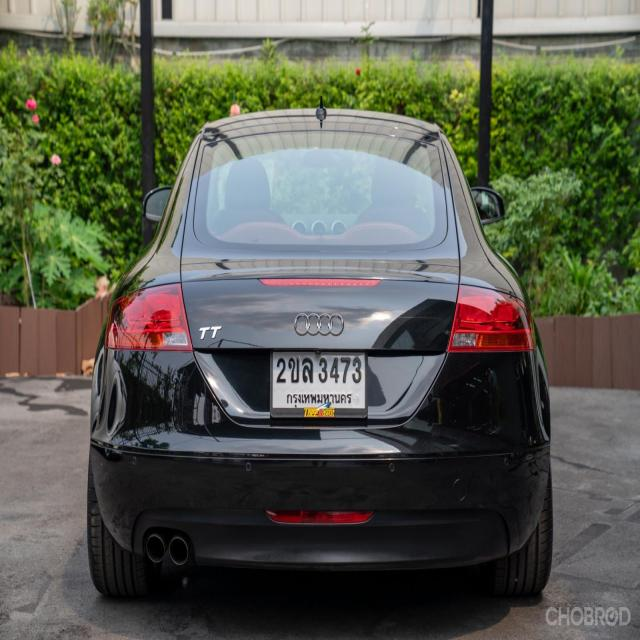license_plate: (269, 343, 369, 422)
